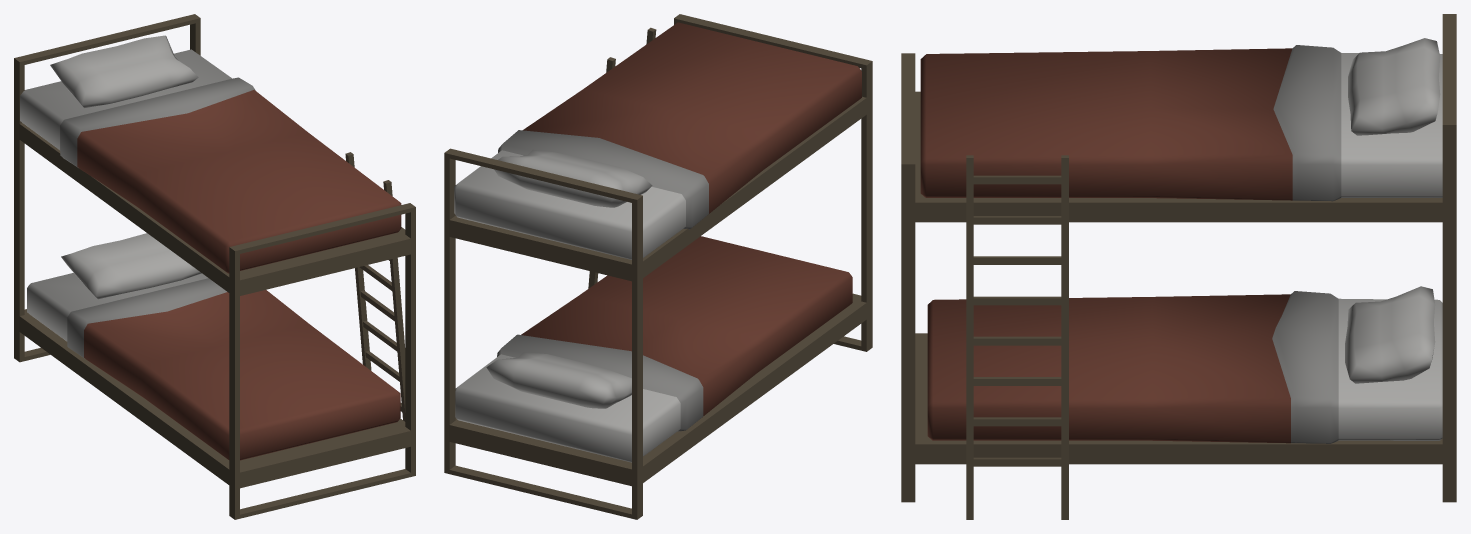
File: bed_bunk.glb
3 renders of one model, left to right at view 1: azimuth 30°, elevation 25°; view 2: azimuth 150°, elevation 25°; view 3: azimuth 270°, elevation 25°, orthographic. The views are drawn at different scales.
Visible parts, largest first — view 1: Bed_Bunk_Cube.052; view 2: Bed_Bunk_Cube.052; view 3: Bed_Bunk_Cube.052.
Boxes of the visible parts, left/top/right/bottom form: Bed_Bunk_Cube.052: left=14, top=14, right=415, bottom=519; Bed_Bunk_Cube.052: left=444, top=14, right=872, bottom=519; Bed_Bunk_Cube.052: left=901, top=14, right=1456, bottom=519.
Bounding box in the file's own units: 2.17 × 3.03 × 4.
